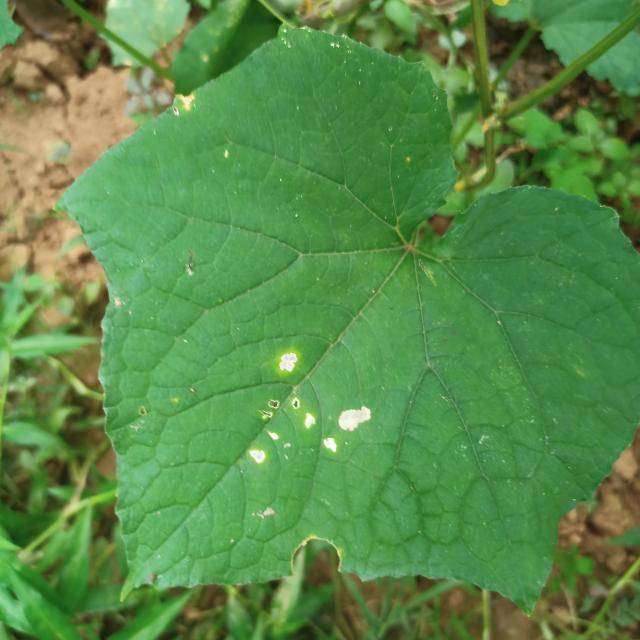disease_cucumber: (249, 352, 370, 471)
